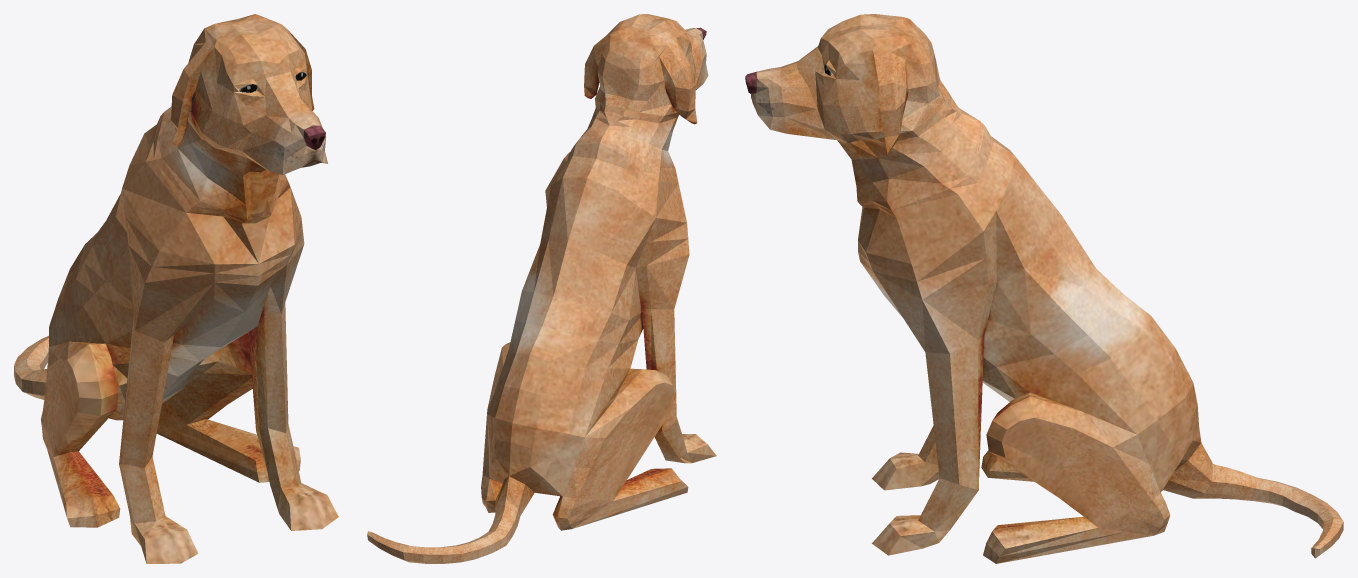
File: sweethome3d-scopia-dog.glb
3 views of the same model, side by side, from view 1: azimuth 30°, elevation 25°; view 2: azimuth 150°, elevation 25°; view 3: azimuth 270°, elevation 25° (orthographic). The views are drawn at different scales.
Visible parts, largest first — view 1: Plane; view 2: Plane; view 3: Plane.
Part boxes in pixels (x1=…): Plane: x1=14, y1=14, x2=338, y2=563; Plane: x1=367, y1=14, x2=716, y2=563; Plane: x1=745, y1=14, x2=1343, y2=563.
Bounding box in the file's own units: 35.66 × 75.01 × 83.07.
1 material, 1 textured.
